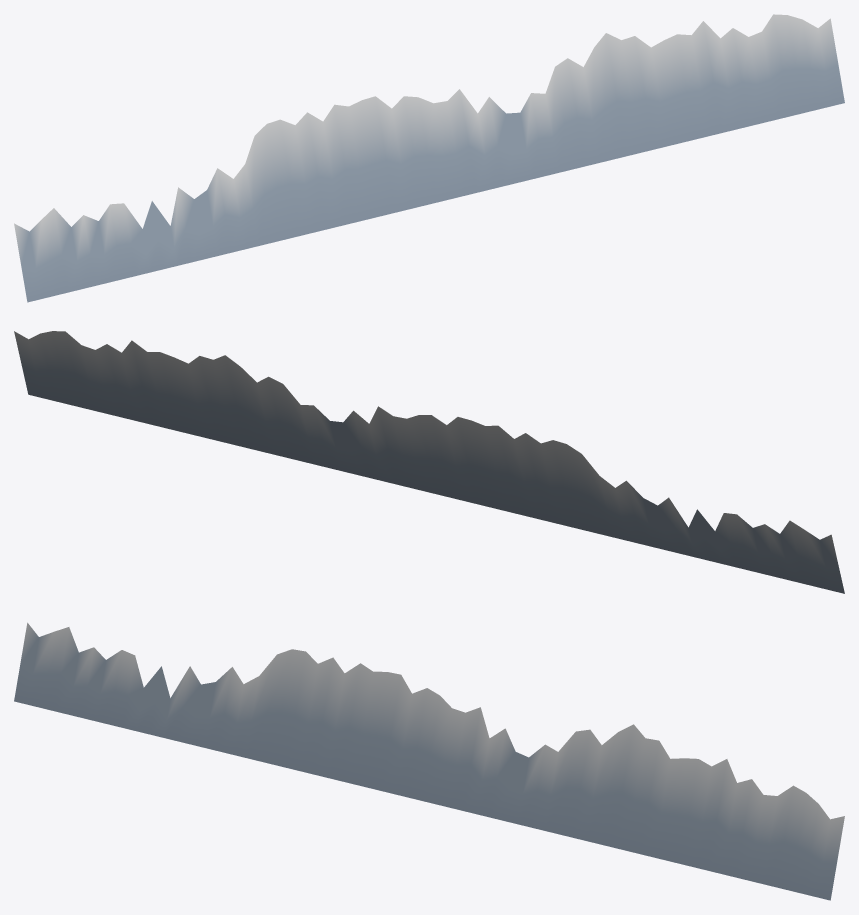
3 views of the same model, one above another, from view 1: azimuth 30°, elevation 25°; view 2: azimuth 150°, elevation 25°; view 3: azimuth 330°, elevation 25° (orthographic).
Parts seen in each view (by area): view 1: sw_hz_b; view 2: sw_hz_b; view 3: sw_hz_b.
Part boxes in pixels (box(x1,y1,x2,y2)): sw_hz_b: box(14, 14, 844, 302); sw_hz_b: box(14, 331, 844, 593); sw_hz_b: box(14, 622, 844, 900).
Size of the model in its own units: 420 by 53.09 by 18.59.
